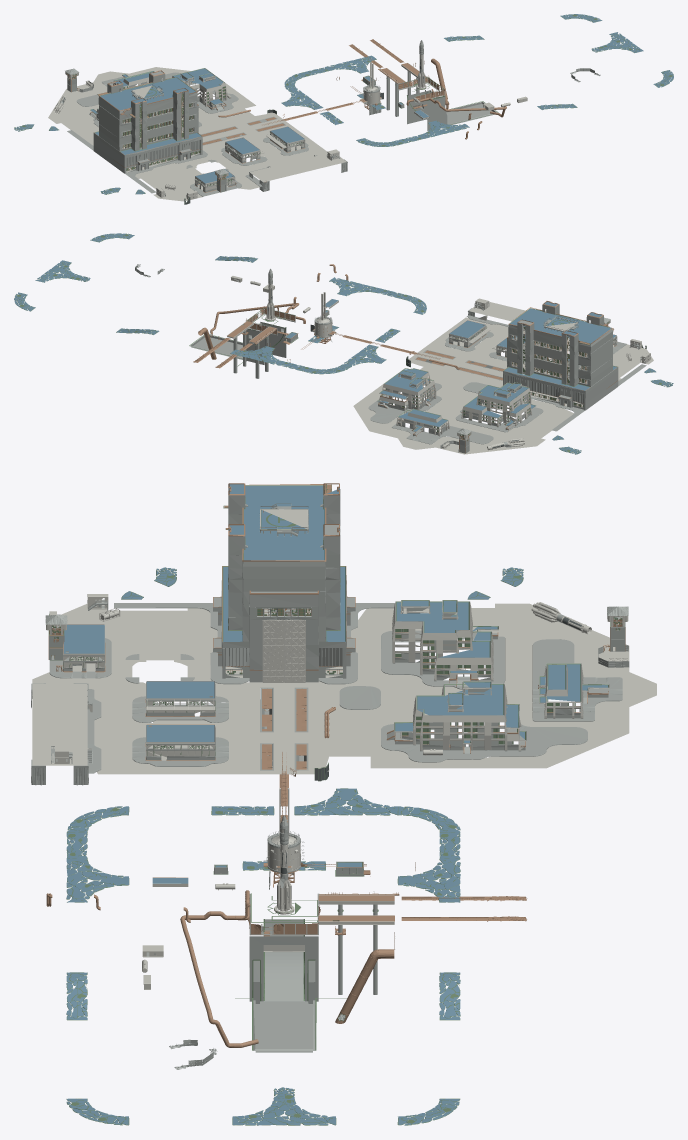
Rendered from launch_site_1-close.glb.
3 renders of one model, top to bottom at view 1: azimuth 30°, elevation 25°; view 2: azimuth 150°, elevation 25°; view 3: azimuth 270°, elevation 25°, orthographic. The views are drawn at different scales.
Visible parts, largest first — view 1: range_bridge_a_LOD0, garage_door_large_b, range_bridge_d_LOD0; view 2: range_bridge_a_LOD0, garage_door_large_b, range_bridge_d_LOD0; view 3: range_bridge_a_LOD0, garage_door_large_b, range_bridge_d_LOD0.
Part boxes in pixels (x1,y1,x2,y2): range_bridge_a_LOD0: (14, 14, 673, 204); garage_door_large_b: (60, 40, 600, 198); range_bridge_d_LOD0: (14, 14, 673, 194); range_bridge_a_LOD0: (14, 233, 672, 454); garage_door_large_b: (135, 264, 646, 453); range_bridge_d_LOD0: (14, 233, 673, 454); range_bridge_a_LOD0: (32, 483, 656, 1125); garage_door_large_b: (31, 488, 629, 1069); range_bridge_d_LOD0: (64, 484, 607, 1125).
Bounding box in the file's own units: 561 × 101 × 272.
